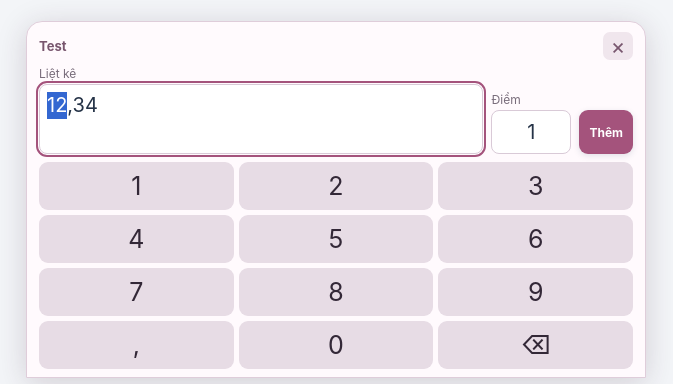
Test: editing position and expansion › replaces selected listing characters and retains the insertion position
Click the button named "Nhập 5": (336,239) [239,215,433,263]
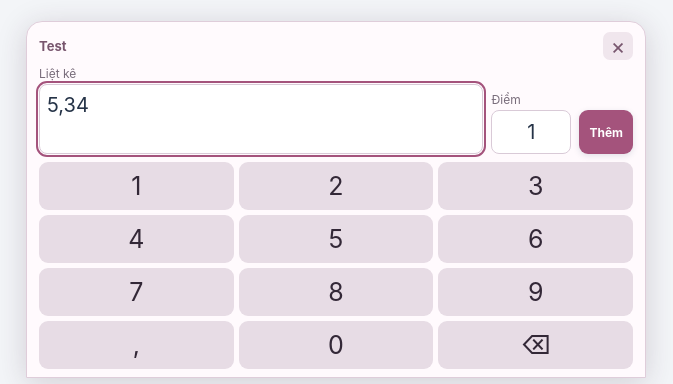
Click the button named "Nhập 6": (536,239) [438,215,633,263]
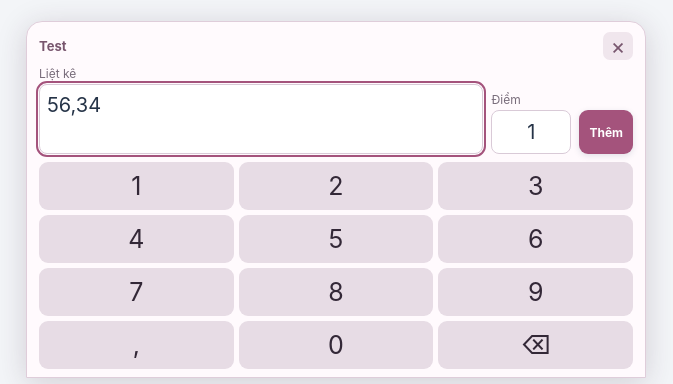
Now the text box named "Liệt kê đang nhập" holds "56,34", box [39,84,483,154]
